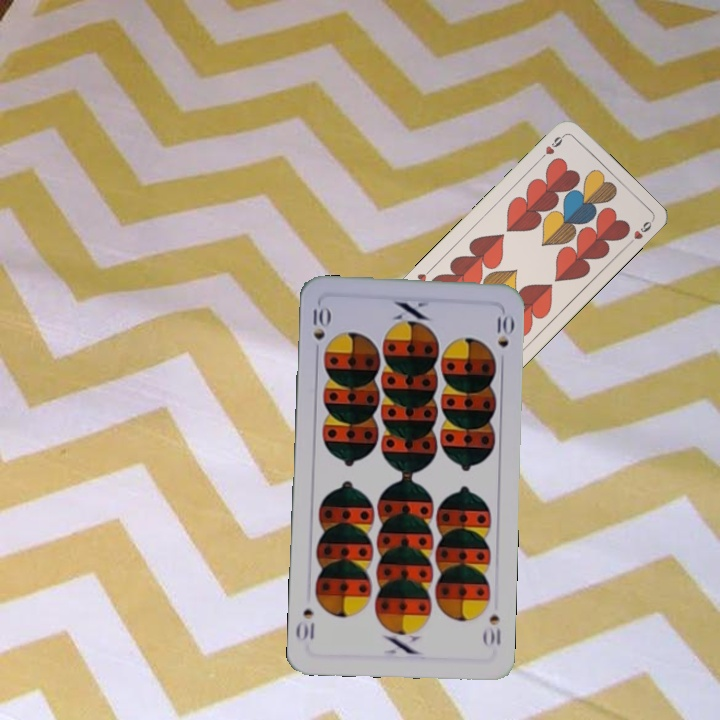H9: (535, 131, 568, 162)
S10: (309, 302, 331, 359), (480, 611, 504, 651)
